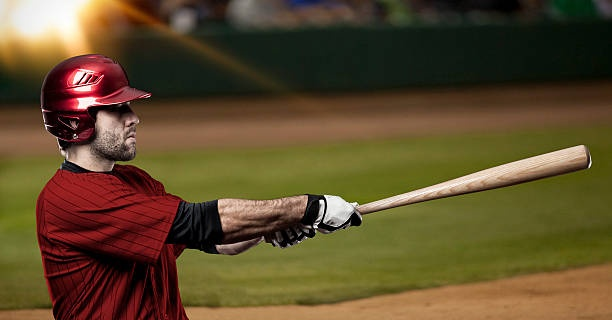bita: (285, 144, 595, 236)
